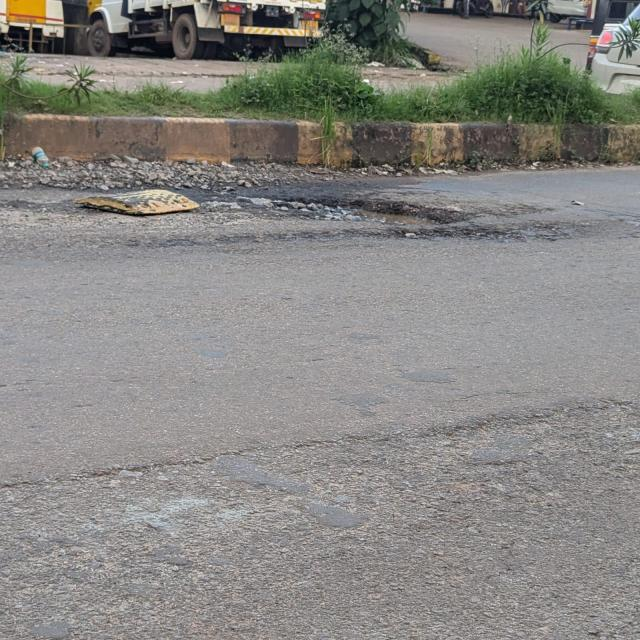pothole: (237, 180, 476, 239), (478, 212, 560, 245)
